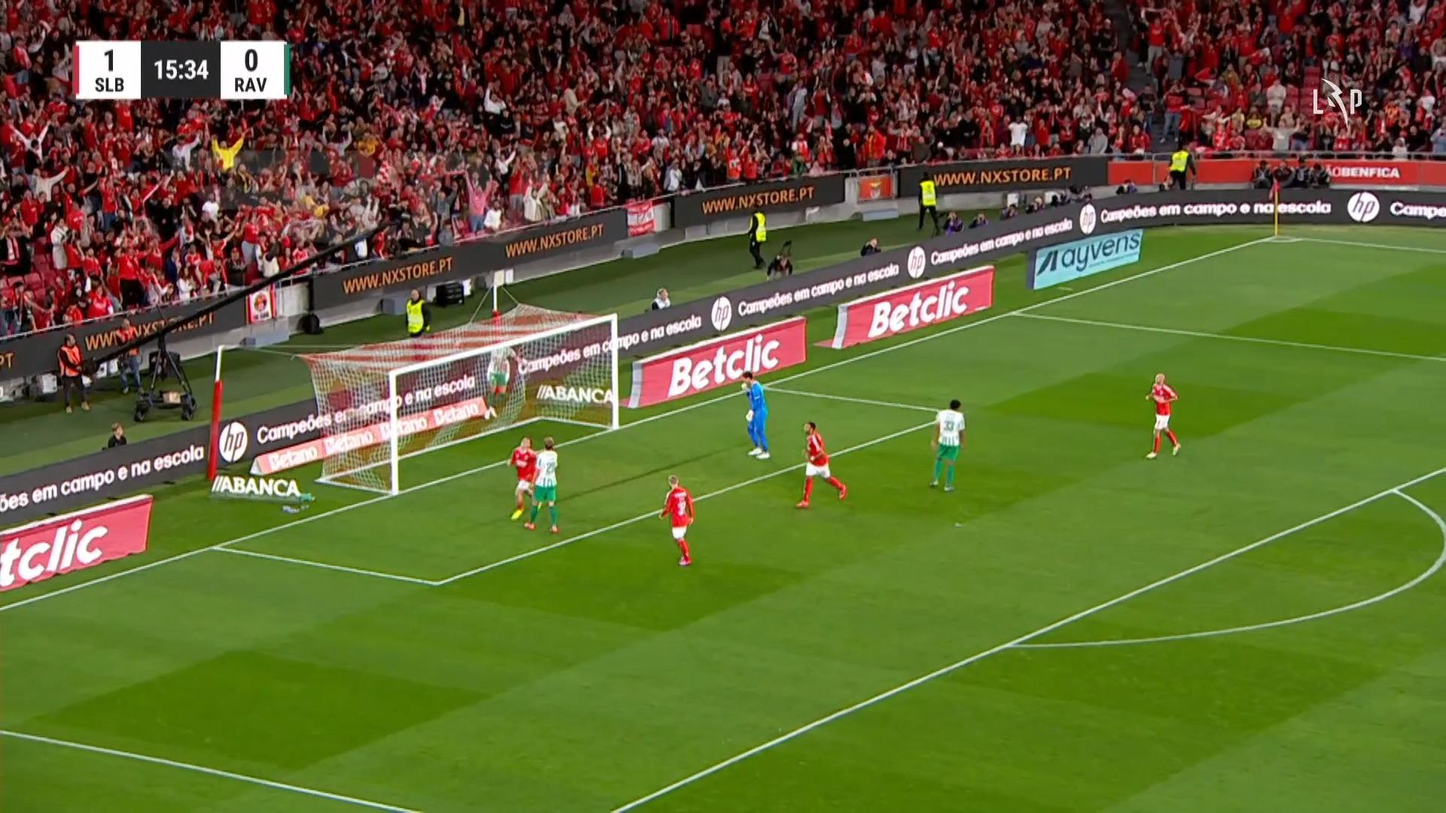goalkeeper: (739, 370, 770, 458)
player: (794, 420, 847, 508), (523, 435, 560, 533), (928, 398, 966, 491), (658, 473, 695, 566), (1143, 372, 1181, 458), (505, 435, 538, 521), (484, 347, 521, 421)
